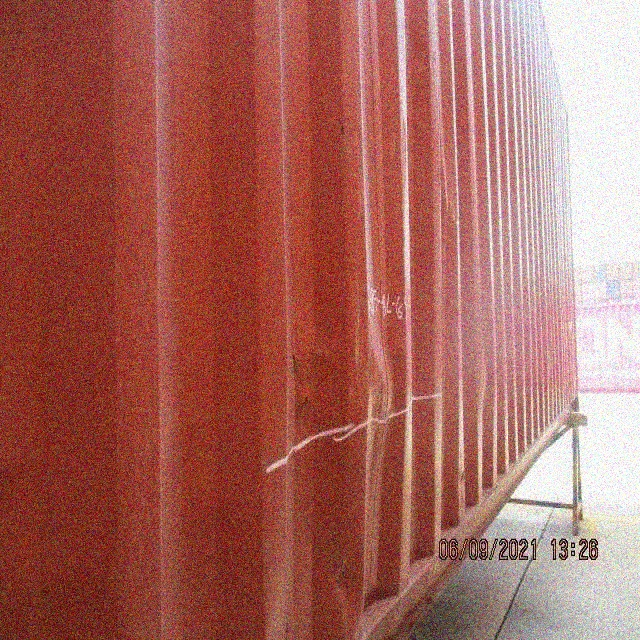Dent: (255, 281, 445, 480), (430, 169, 463, 258)
